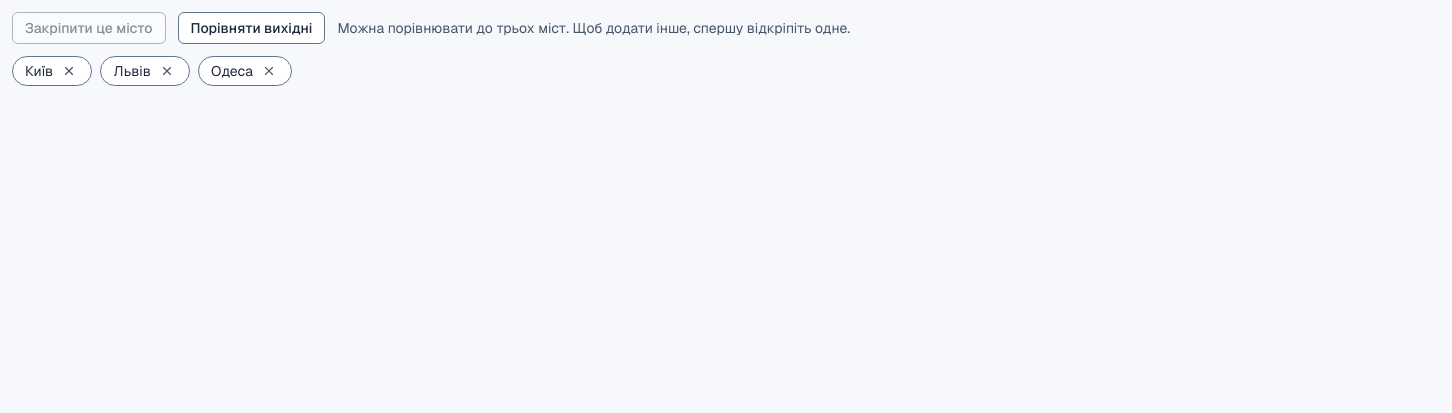
Scenario: CompareSection — 3 columns from a PARALLEL /api/forecast (FR-COMPARE-02, D4) › renders three columns, each with Sat/Sun hi/lo, precip %, and a ComfortBadge
The image size is (1452, 413).
Click the switch labelled "Порівняти вихідні".
click(252, 28)  # box [178, 12, 326, 44]
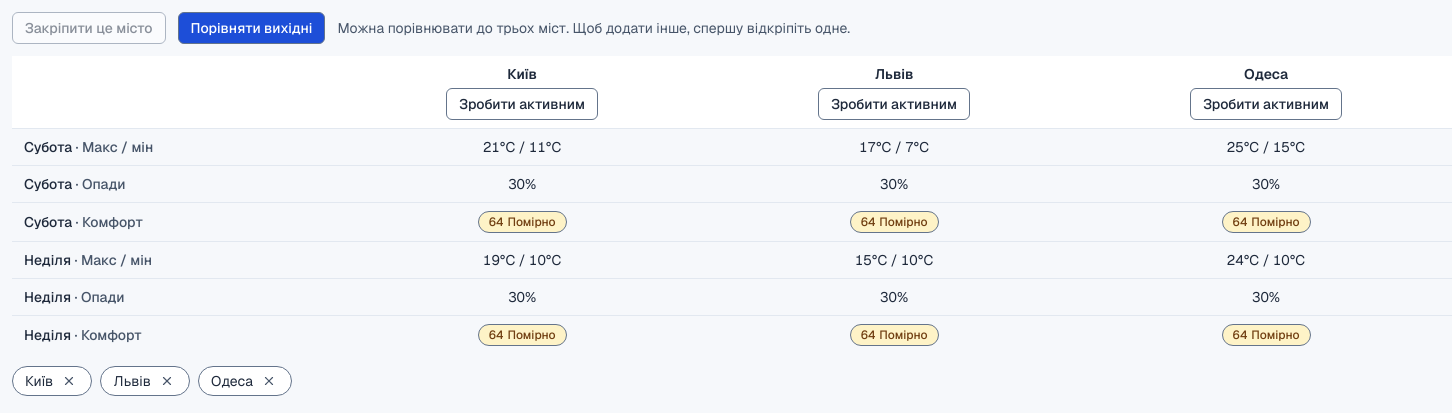
Expected: the table shows "21", [483, 138, 515, 156]
Expected: the table shows "17", [859, 138, 891, 156]
Expected: the table shows "25", [1227, 138, 1259, 156]
